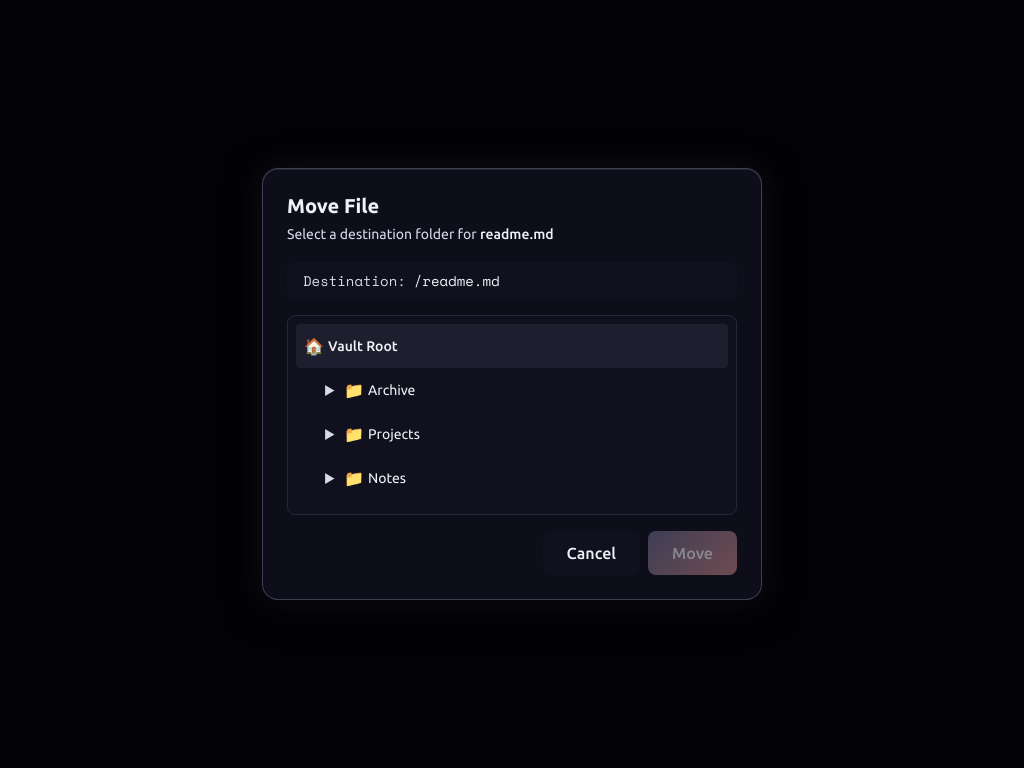
Test: MoveDialog › path display › preserves filename in destination path
The width and height of the screenshot is (1024, 768).
Click the text "Projects" at (394, 434), box [368,426,420,442]
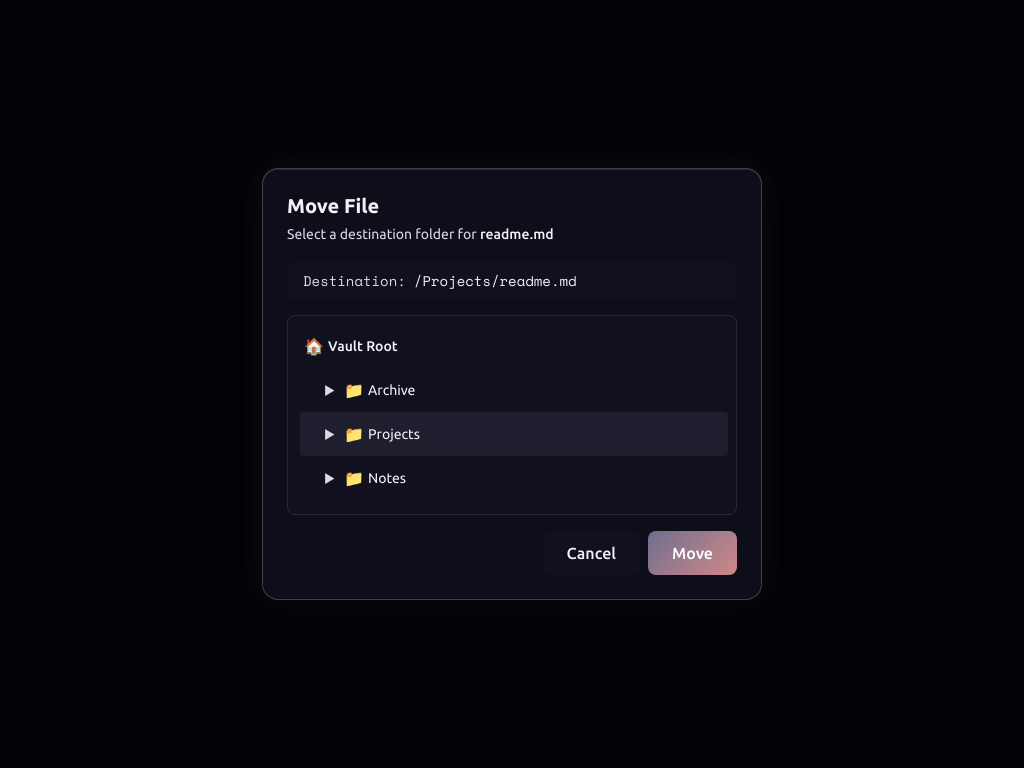
Result: the text "/Projects/readme.md" is shown at [414,270,577,291]
